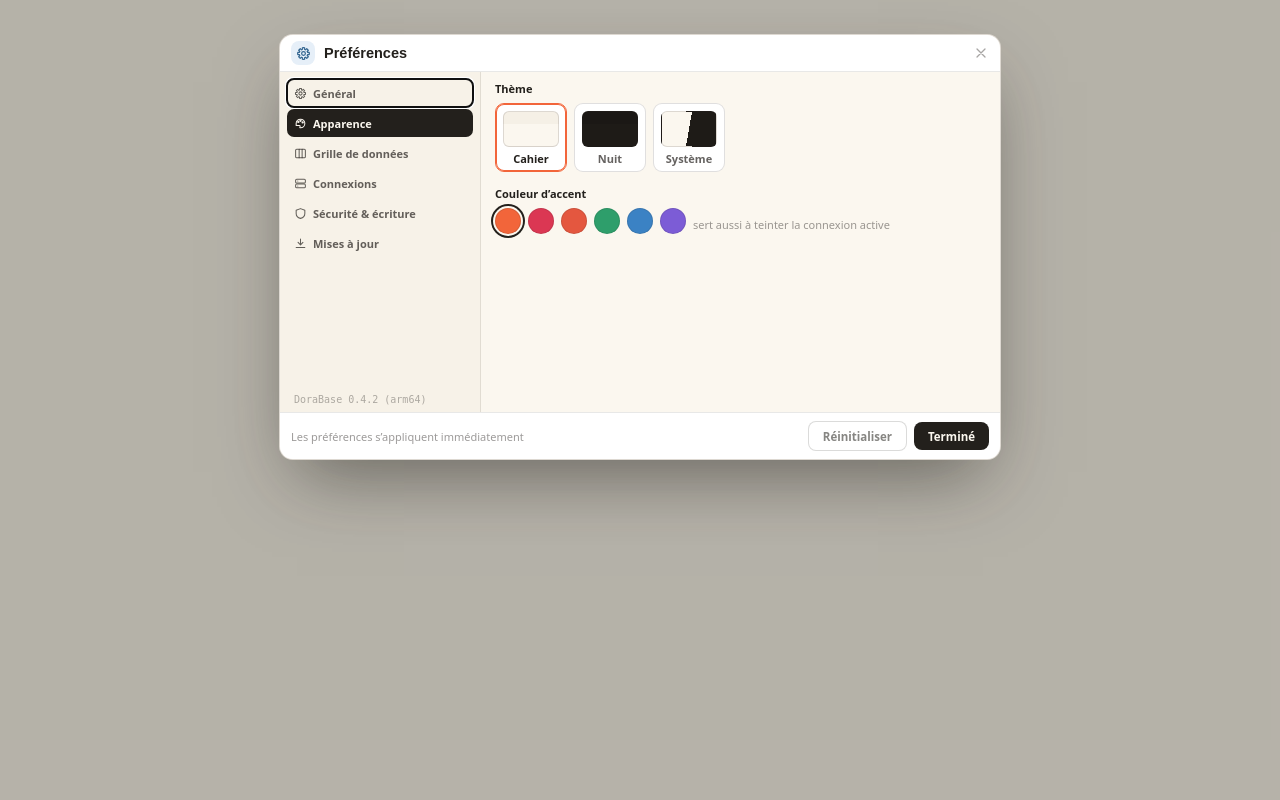
Test case: la langue (26 août 2026) › « Général » dit encore ce qui n’est pas livré, sous la langue
Click the tab "Général" at [380, 93], box [287,79,473,107]
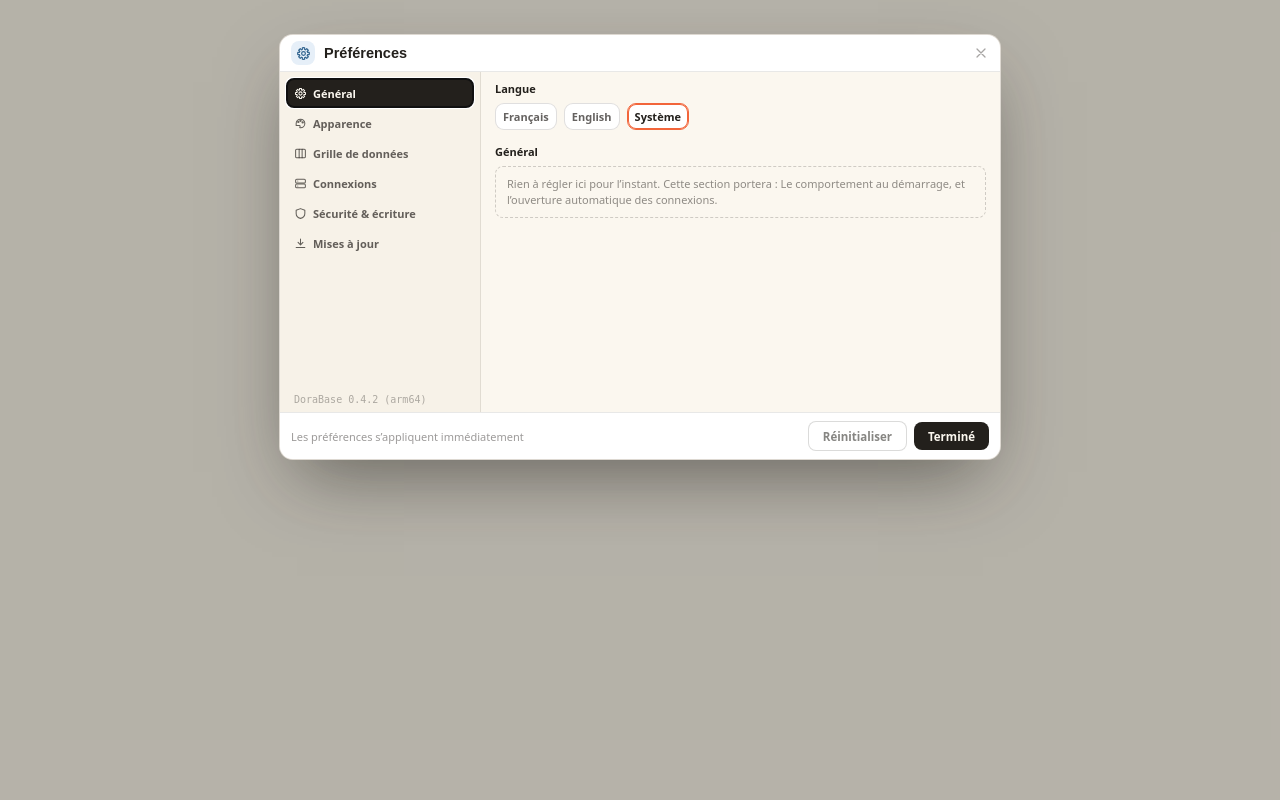
Expected: the text "Cette section portera" is shown, [507,176,965,207]
